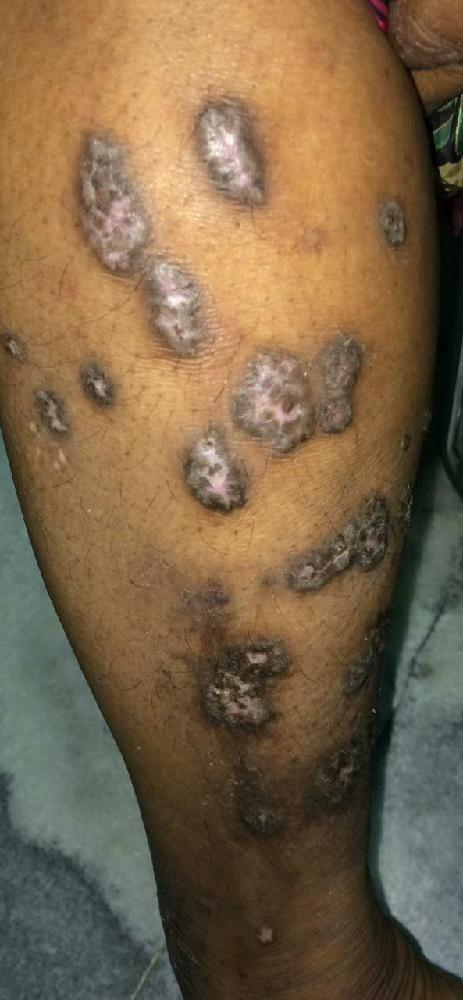hypertrophic lichen planus: (68, 91, 426, 593)
